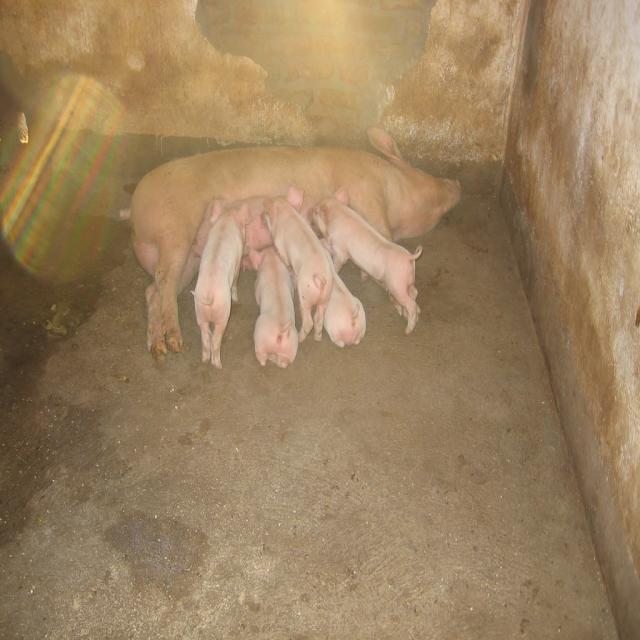Pig: (119, 126, 463, 366)
